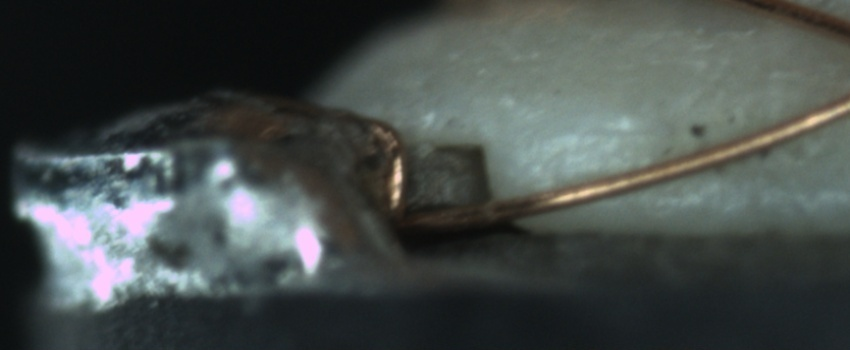DL: (536, 109, 672, 162)
TE: (338, 106, 416, 228)
